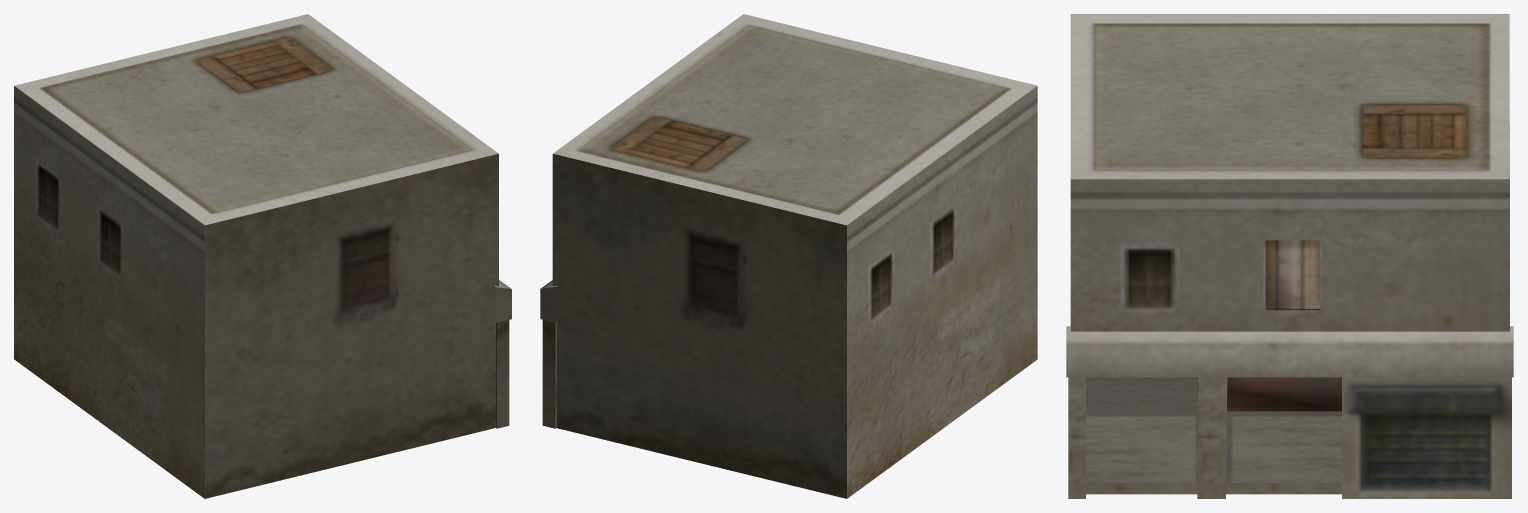
The model's file is Desert_House_D_01.glb.
3 renders of one model, left to right at view 1: azimuth 30°, elevation 25°; view 2: azimuth 150°, elevation 25°; view 3: azimuth 270°, elevation 25°, orthographic. The views are drawn at different scales.
Parts seen in each view (by area): view 1: Desert_House_D_01; view 2: Desert_House_D_01; view 3: Desert_House_D_01.
Part boxes in pixels (<box>): Desert_House_D_01: <box>14,14,511,498</box>; Desert_House_D_01: <box>540,14,1037,498</box>; Desert_House_D_01: <box>1066,14,1513,498</box>.
Bounding box in the file's own units: 1.38 × 1.04 × 1.33.
Materials: 1 (1 with a texture image).
